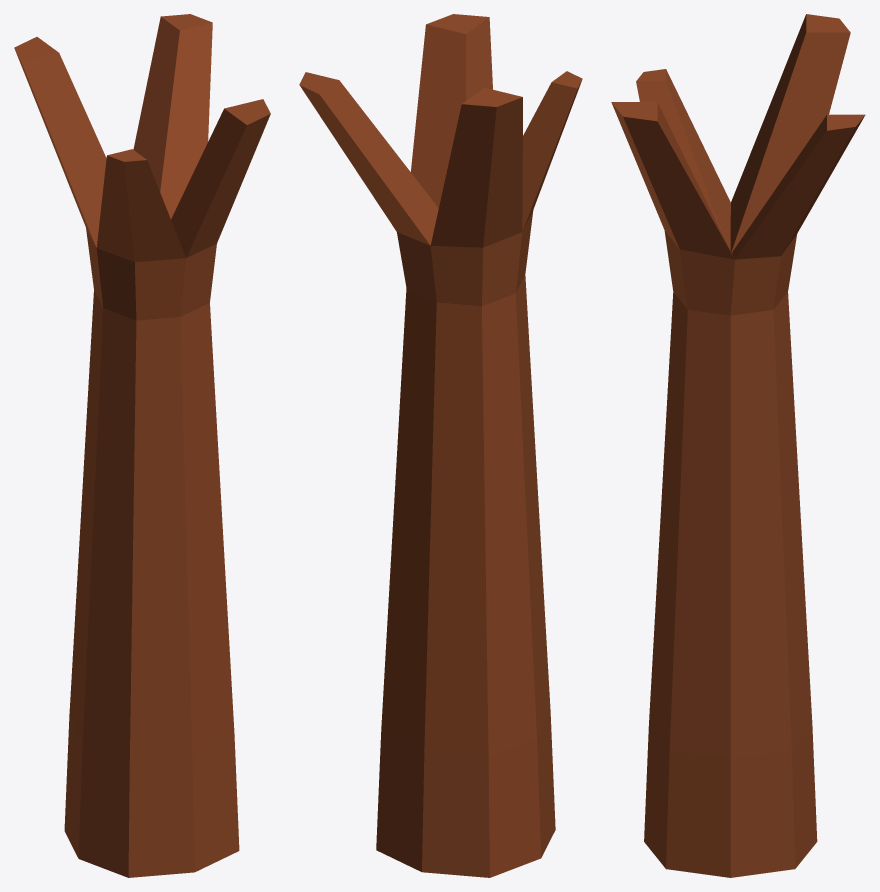
File: stac tree.fbx
The picture shows the model from 3 angles, left to right: view 1: azimuth 30°, elevation 25°; view 2: azimuth 150°, elevation 25°; view 3: azimuth 270°, elevation 25°; orthographic projection. The views are drawn at different scales.
Visible parts, largest first — view 1: Cube.001, Cube.002; view 2: Cube.001, Cube.002; view 3: Cube.001, Cube.002.
Boxes of the visible parts, x1,y1,x2,y2 form: Cube.001: [14, 14, 270, 759]; Cube.002: [64, 716, 239, 877]; Cube.001: [299, 14, 582, 756]; Cube.002: [376, 712, 555, 877]; Cube.001: [611, 14, 865, 758]; Cube.002: [644, 725, 817, 877].
Bounding box in the file's own units: 364 × 1335 × 394.
